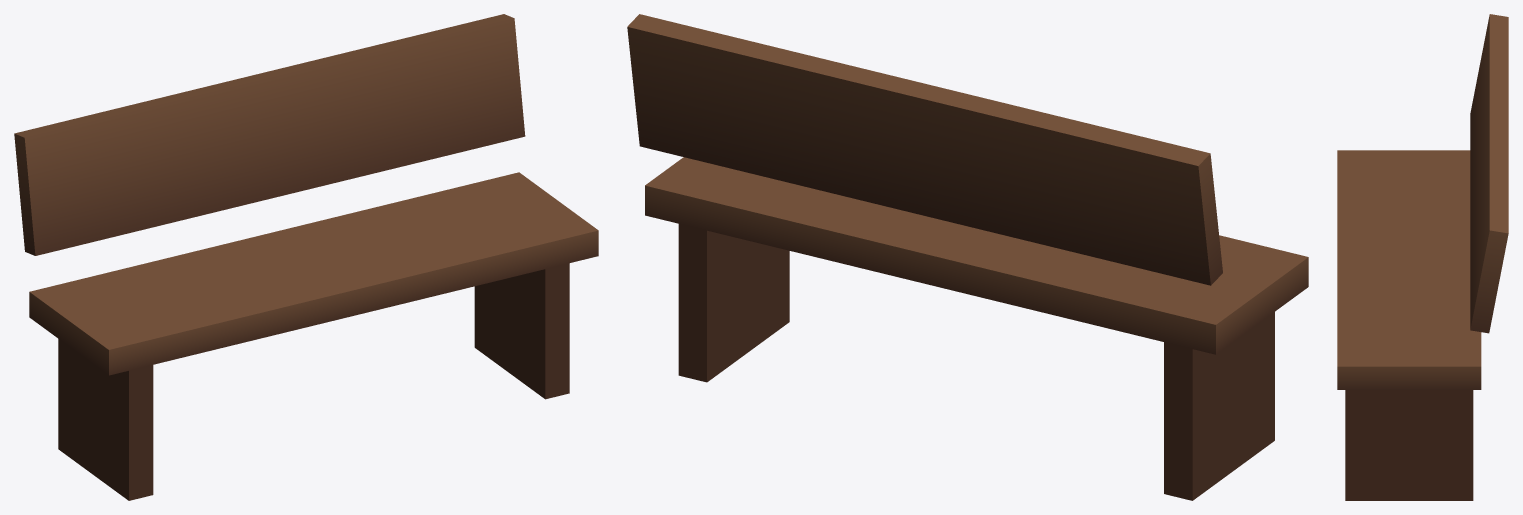
The model's file is bench.glb.
The picture shows the model from 3 angles, left to right: view 1: azimuth 30°, elevation 25°; view 2: azimuth 150°, elevation 25°; view 3: azimuth 270°, elevation 25°; orthographic projection. The views are drawn at different scales.
Parts seen in each view (by area): view 1: bench; view 2: bench; view 3: bench.
Part boxes in pixels (box(x1,y1,x2,y2)): bench: box(14, 14, 598, 500); bench: box(627, 14, 1308, 500); bench: box(1337, 14, 1508, 500).
Size of the model in its own units: 1.6 by 0.9699 by 0.5353.
